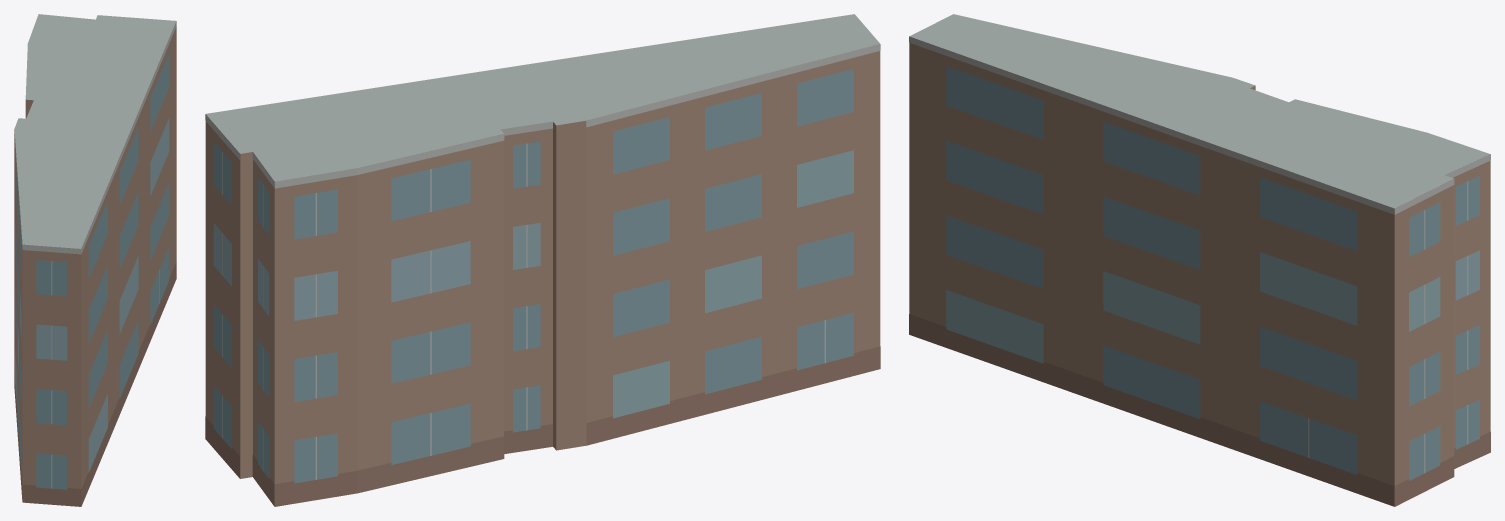
File: survey-upis-33016068.glb
3 renders of one model, left to right at view 1: azimuth 30°, elevation 25°; view 2: azimuth 150°, elevation 25°; view 3: azimuth 270°, elevation 25°, orthographic. The views are drawn at different scales.
Visible parts, largest first — view 1: survey-upis-33016068.tmp; view 2: survey-upis-33016068.tmp; view 3: survey-upis-33016068.tmp.
Part boxes in pixels (box(x1,y1,x2,y2)): survey-upis-33016068.tmp: box(14, 14, 176, 506); survey-upis-33016068.tmp: box(205, 14, 880, 506); survey-upis-33016068.tmp: box(909, 14, 1490, 506).
Bounding box in the file's own units: 16.24 × 11.6 × 20.5.
